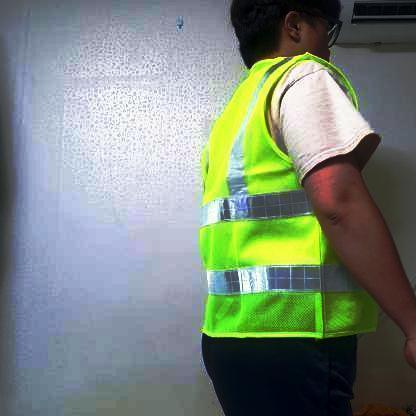vest: (202, 50, 383, 345)
